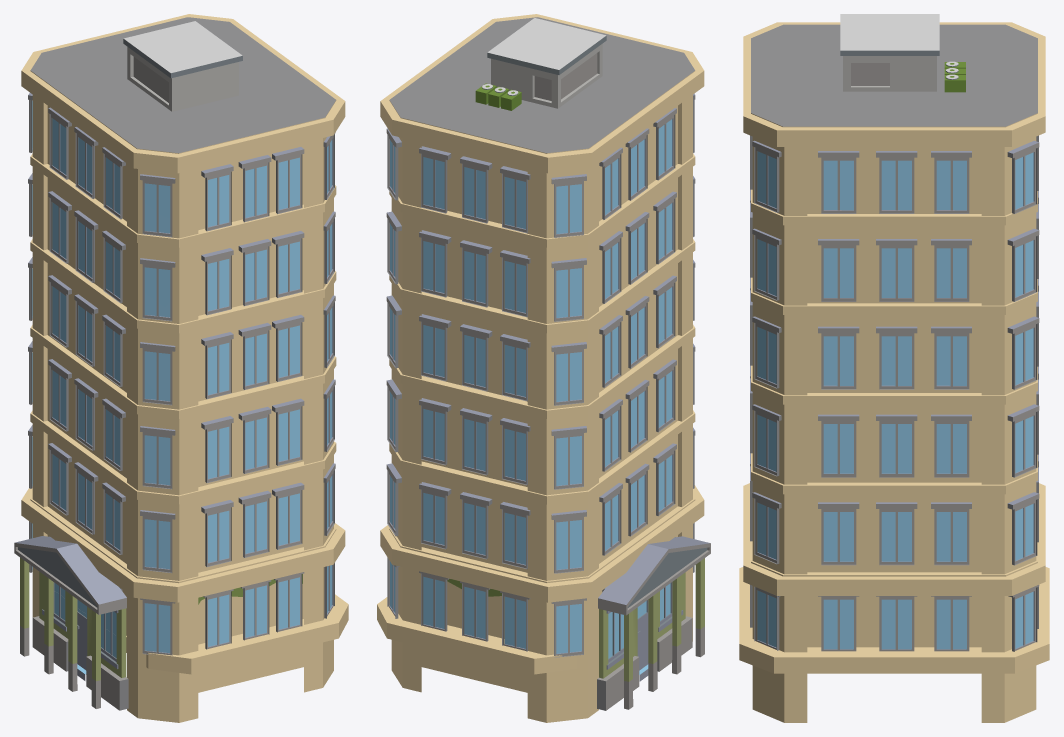
File: putong_zhongxing11.fbx
The picture shows the model from 3 angles, left to right: view 1: azimuth 30°, elevation 25°; view 2: azimuth 150°, elevation 25°; view 3: azimuth 270°, elevation 25°; orthographic projection. The views are drawn at different scales.
Parts seen in each view (by area): view 1: putong_zhongxing11; view 2: putong_zhongxing11; view 3: putong_zhongxing11.
Part boxes in pixels (box(x1,y1,x2,y2)): putong_zhongxing11: box(14, 14, 348, 722); putong_zhongxing11: box(377, 14, 710, 722); putong_zhongxing11: box(739, 14, 1049, 722).
Bounding box in the file's own units: 397 × 436 × 989.
